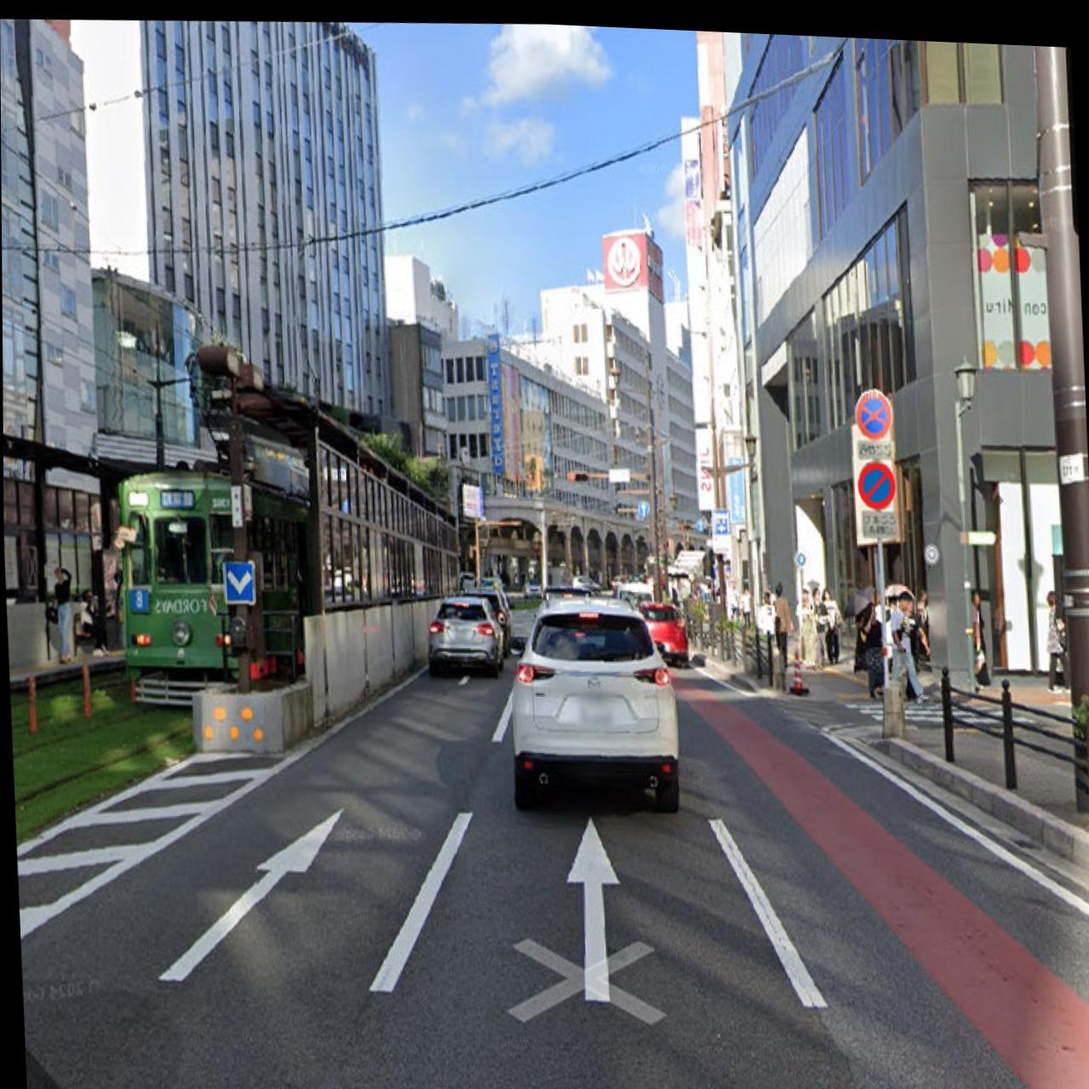stop_sign: (852, 384, 896, 440)
